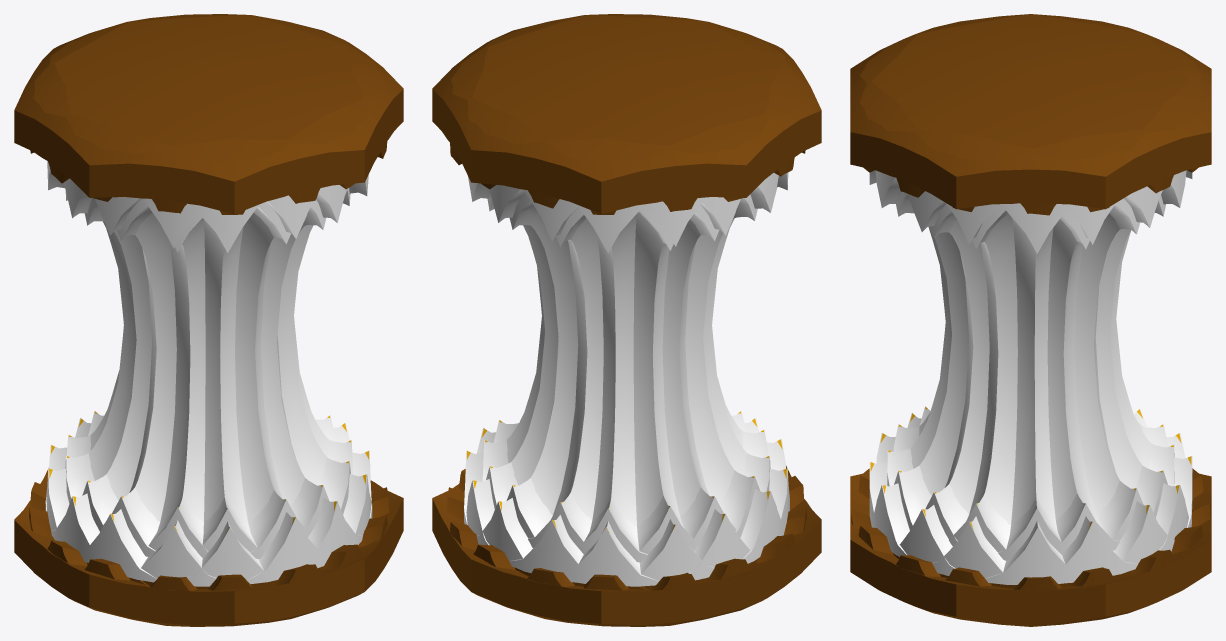
File: Glasshour.gltf
3 views of the same model, side by side, from view 1: azimuth 30°, elevation 25°; view 2: azimuth 150°, elevation 25°; view 3: azimuth 270°, elevation 25° (orthographic).
Visible parts, largest first — view 1: Glass, Frame; view 2: Glass, Frame; view 3: Glass, Frame.
Boxes of the visible parts, box(x1,y1,x2,y2) form: Glass: box(45, 161, 372, 586); Frame: box(14, 14, 403, 626); Glass: box(464, 172, 789, 586); Frame: box(432, 14, 821, 626); Glass: box(869, 170, 1192, 584); Frame: box(850, 14, 1211, 626).
Size of the model in its own units: 2 by 3.1 by 2.
